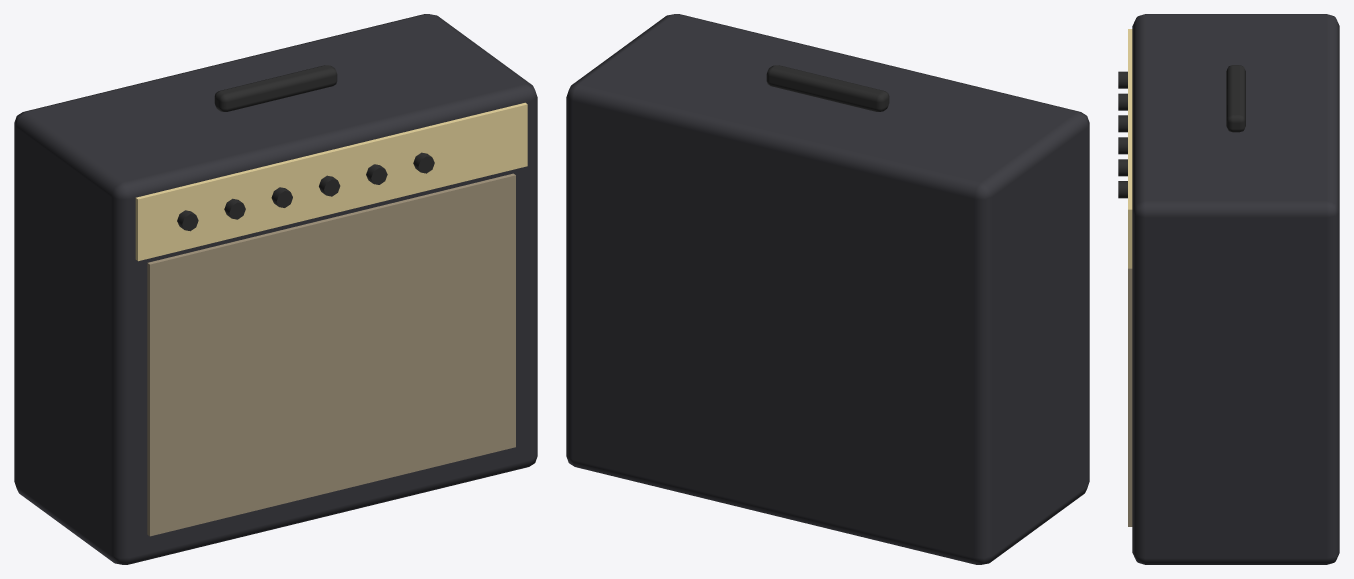
File: amp.glb
The picture shows the model from 3 angles, left to right: view 1: azimuth 30°, elevation 25°; view 2: azimuth 150°, elevation 25°; view 3: azimuth 270°, elevation 25°; orthographic projection. The views are drawn at different scales.
Visible parts, largest first — view 1: amp_std, amp_metal; view 2: amp_std; view 3: amp_std, amp_metal.
Boxes of the visible parts, bbox=[...] form: amp_std: bbox=[14, 14, 537, 564]; amp_metal: bbox=[135, 102, 527, 261]; amp_std: bbox=[566, 14, 1089, 564]; amp_std: bbox=[1118, 14, 1339, 564]; amp_metal: bbox=[1128, 29, 1132, 268].
Bounding box in the file's own units: 0.72 × 0.65 × 0.342.
